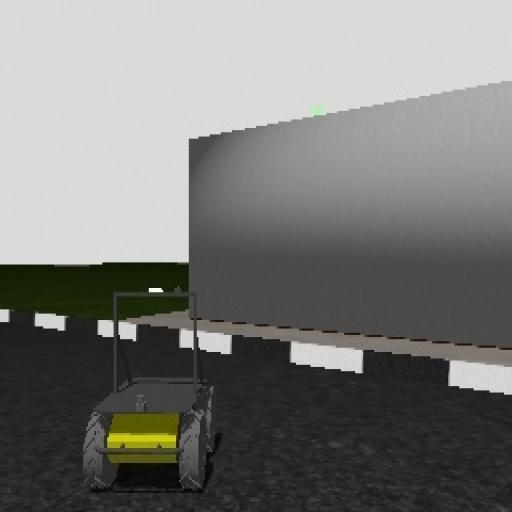huskya200: (69, 278, 220, 500)
